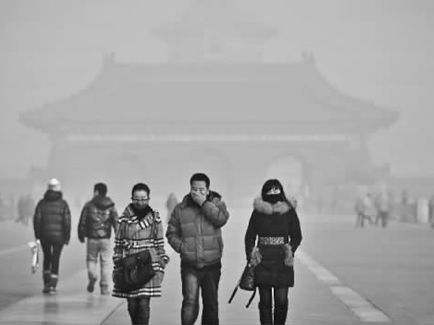person: (166, 173, 229, 325), (239, 178, 304, 325), (114, 182, 169, 325), (78, 182, 121, 297), (30, 176, 71, 296), (354, 192, 390, 227), (14, 196, 28, 226), (22, 195, 36, 221), (166, 192, 178, 212)
